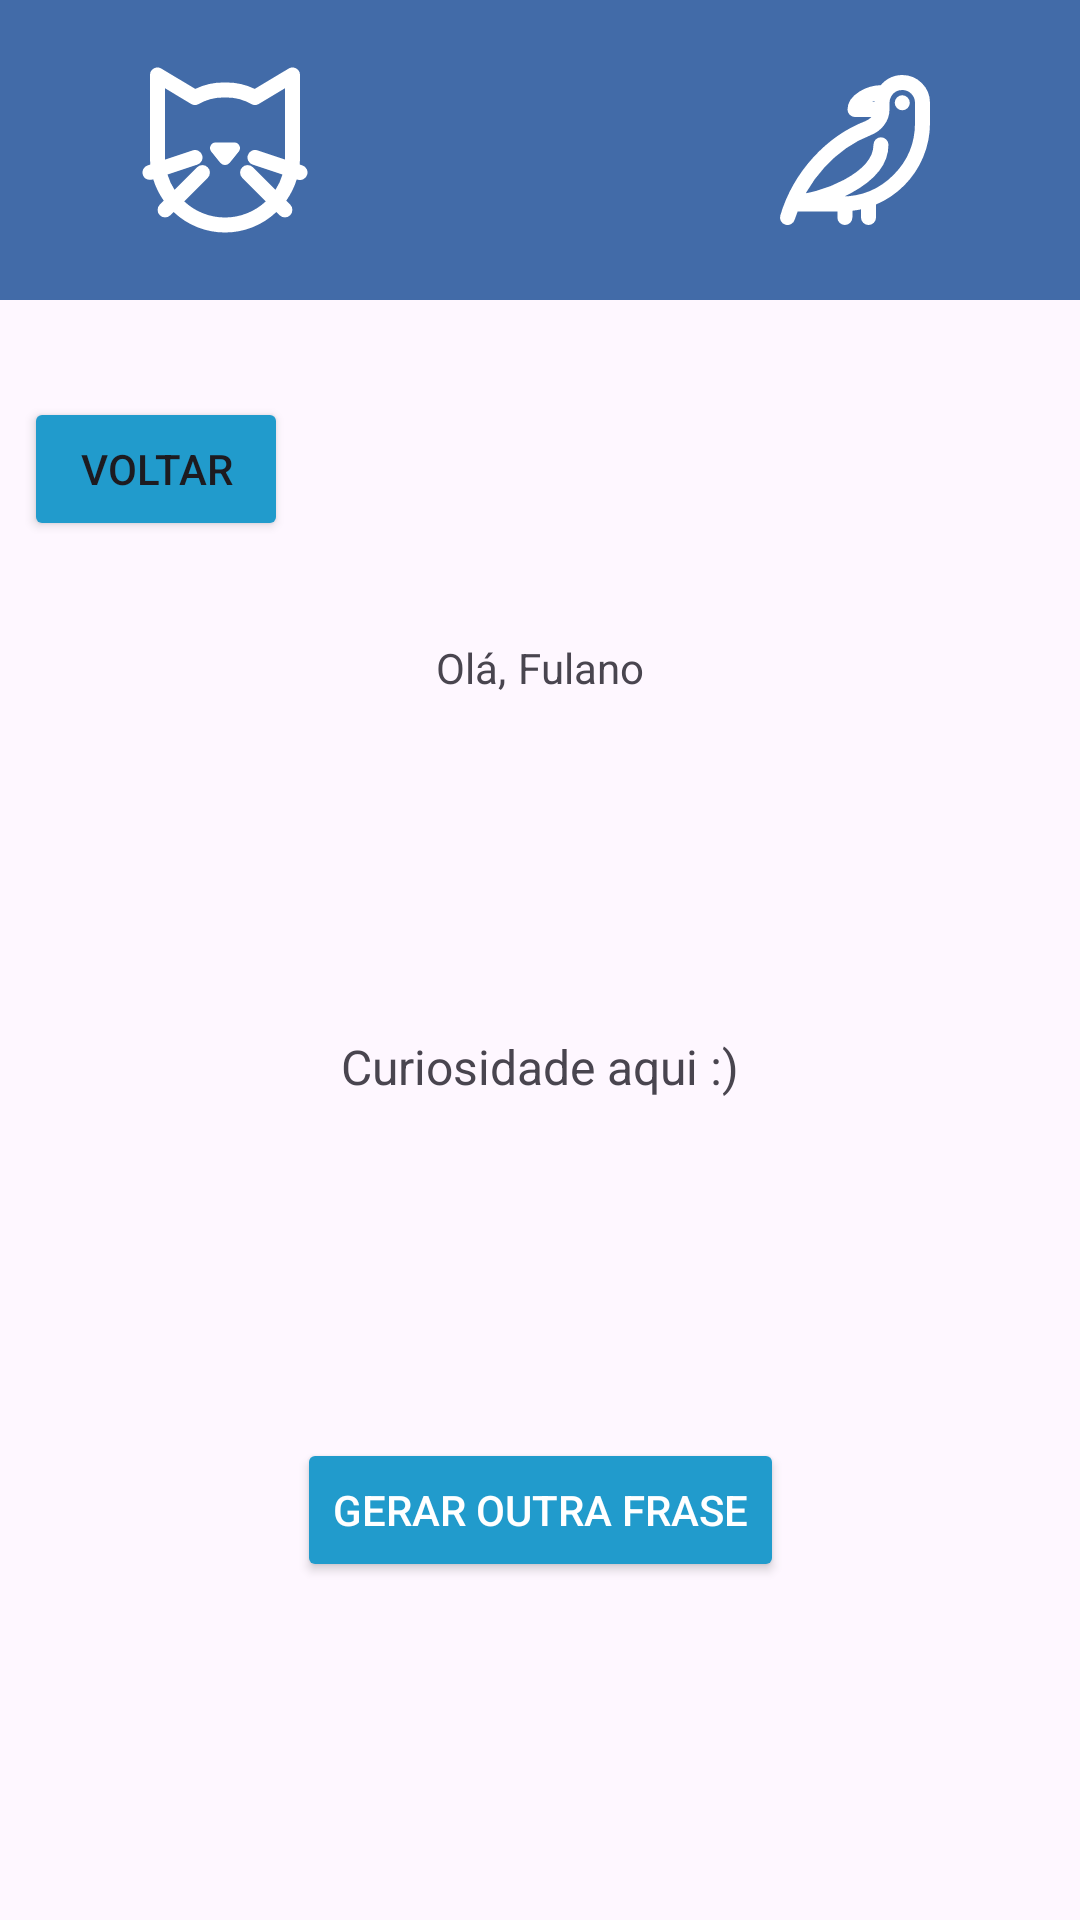

Icons on this 1080*1920 Android screen, each with the point to tap as (x,y):
Ave: (855,150)
Gato: (225,150)
